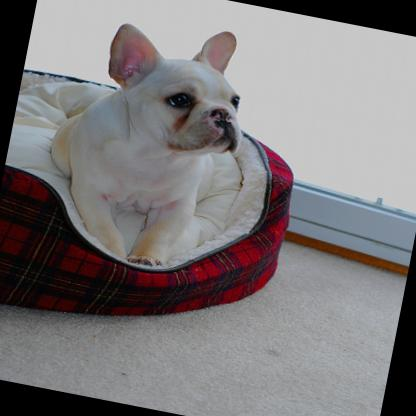French_bulldog: (29, 0, 259, 278)
